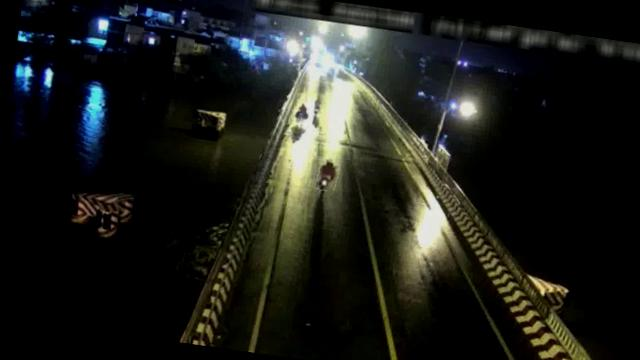Bike: (314, 160, 339, 192)
Truck: (292, 103, 310, 128)
